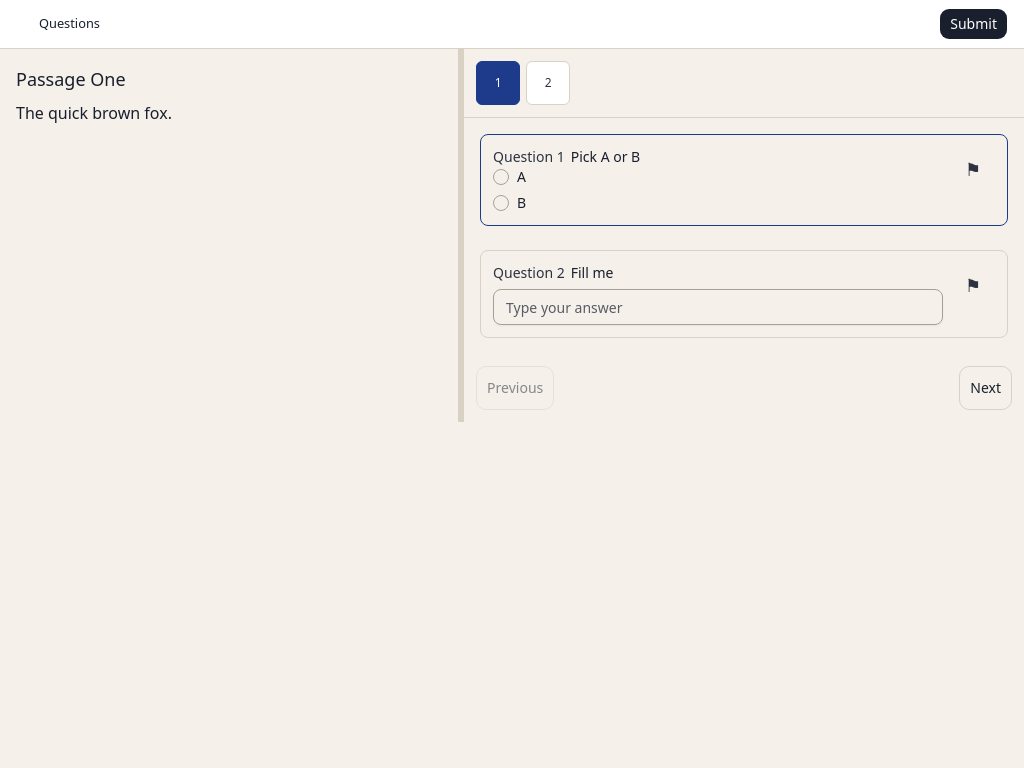
Test: AttemptPage — submit flow (AC13/AC18/AC23, WF-8 #7) › confirm submit runs flush→POST and lands on the confirmation end-state
The image size is (1024, 768).
Click the radio button with test id "choice-0:0:0-A". click: (501, 177)
box: 493,169 -> 509,185
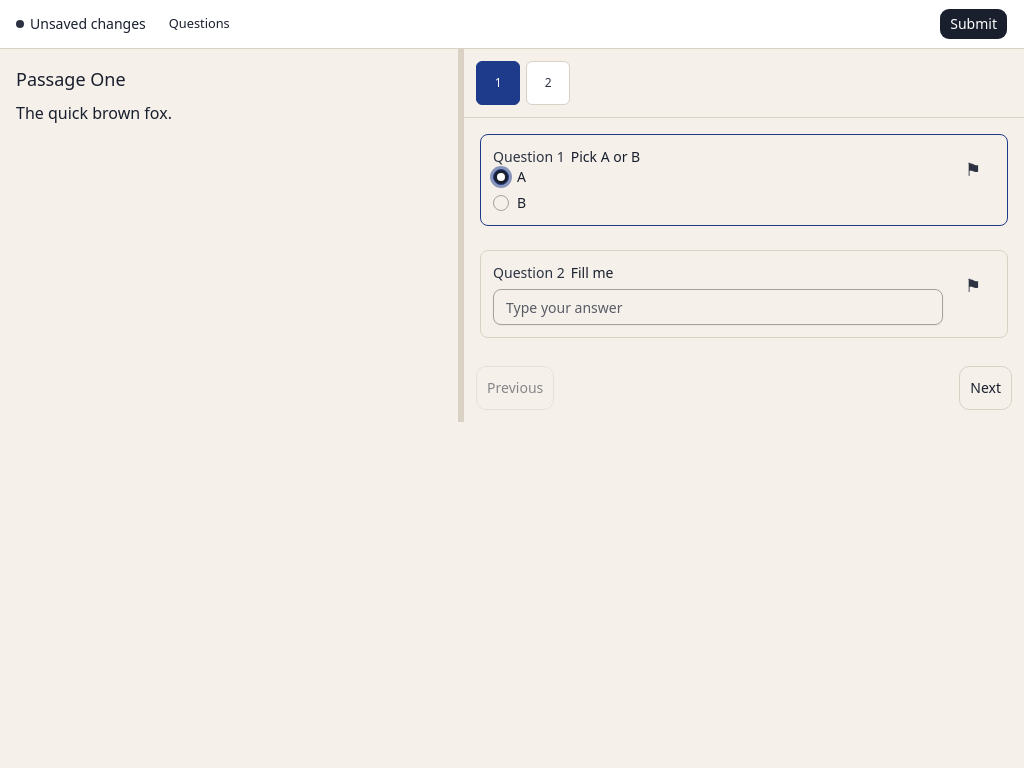
Click the button with test id "attempt-submit-open". click: (974, 24)
box: 939,8 -> 1008,40
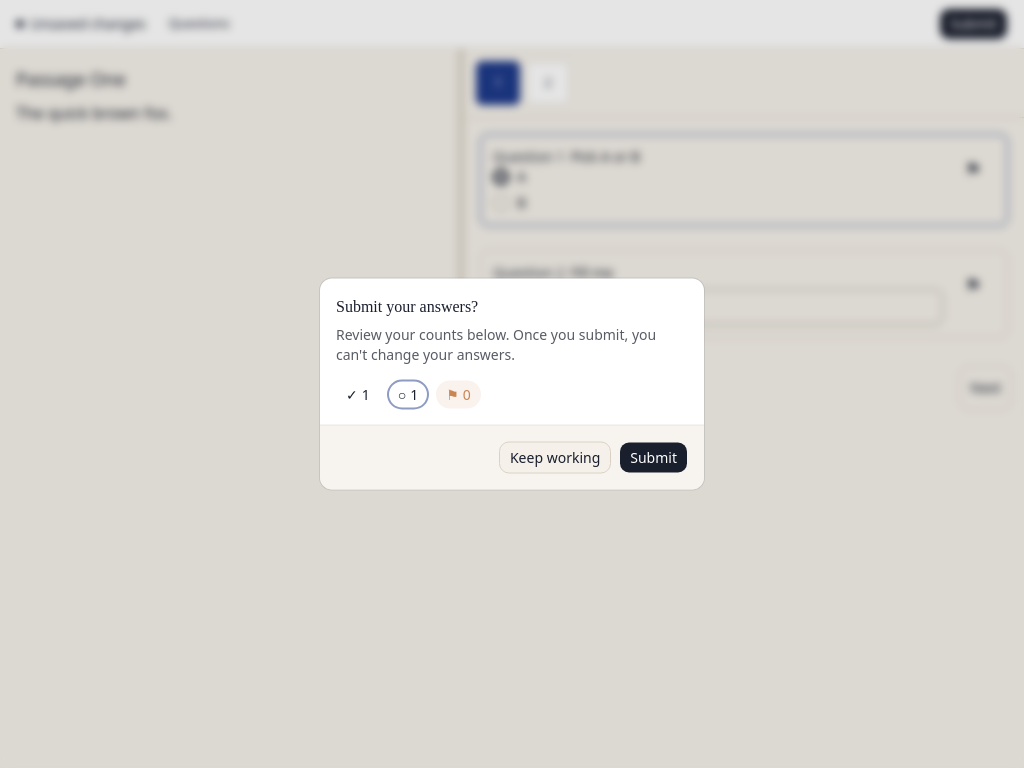
expect the element with test id "submit-answered" shows "1": met, box 362,384 -> 370,404
Click the button with test id "submit-confirm". click: (654, 458)
box: 619,442 -> 688,474
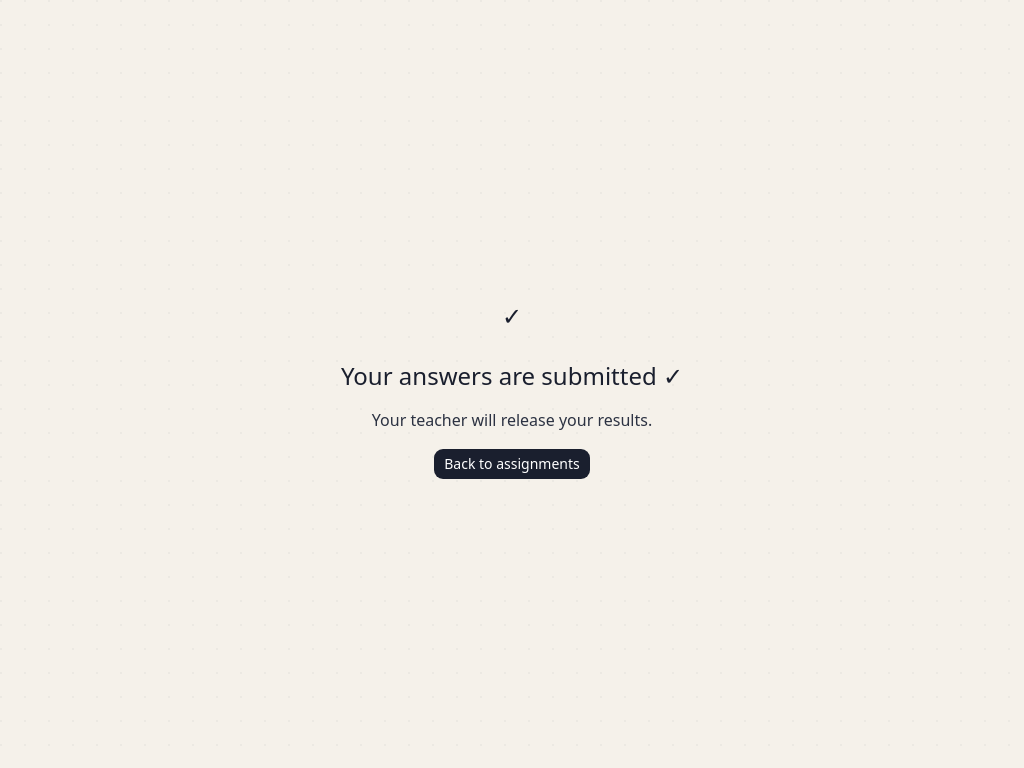
expect the message with test id "submission-confirmation" is shown: met, box 341,299 -> 683,480
